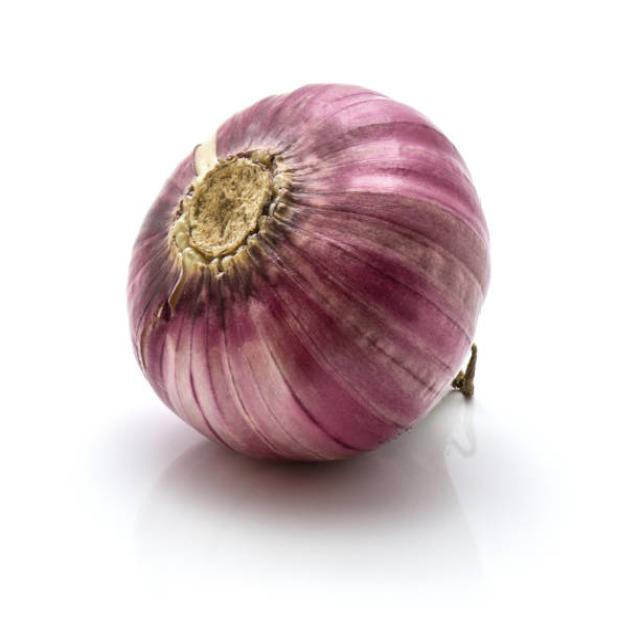onion: (120, 78, 498, 470)
